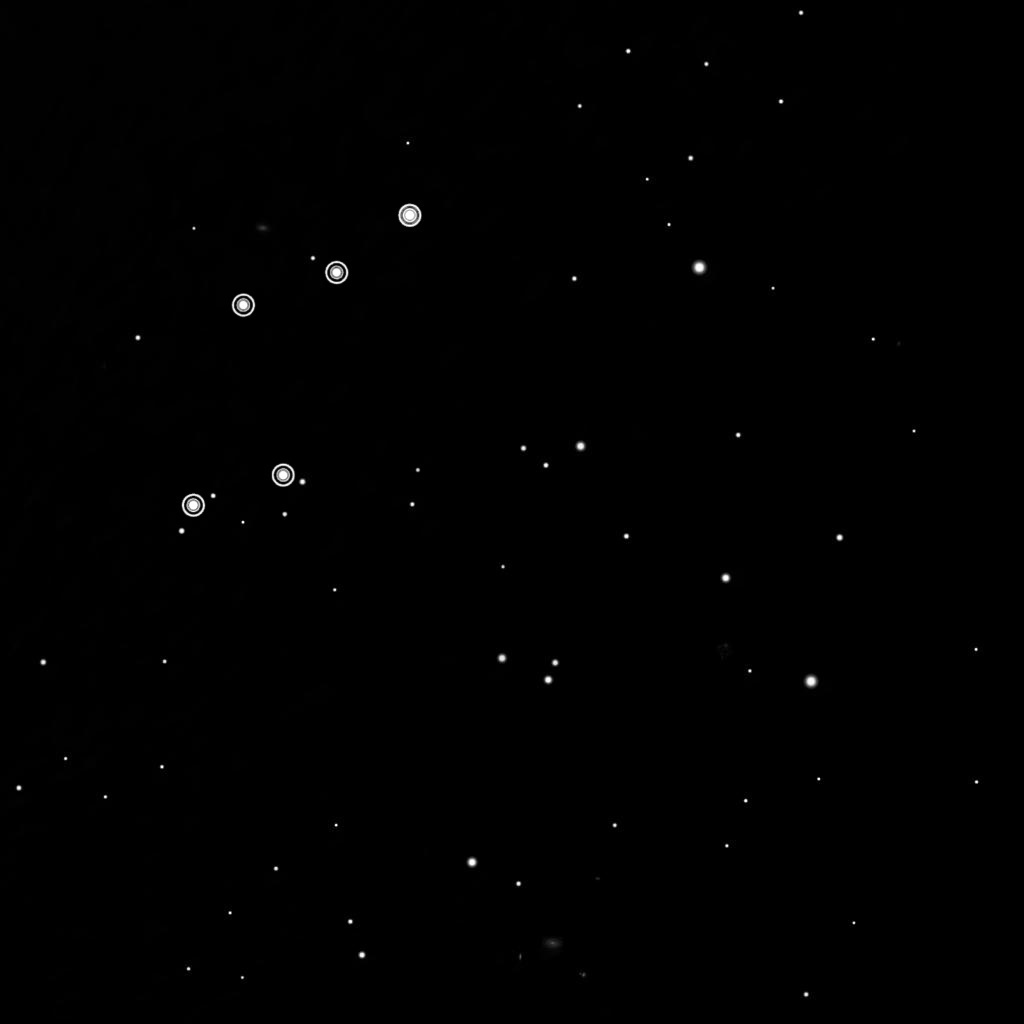lyra: (169, 192, 431, 526)
